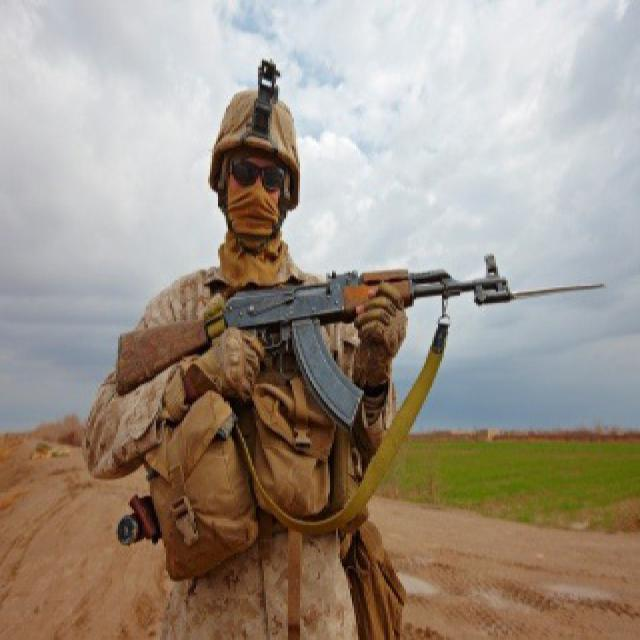long weapon: (96, 255, 612, 394)
